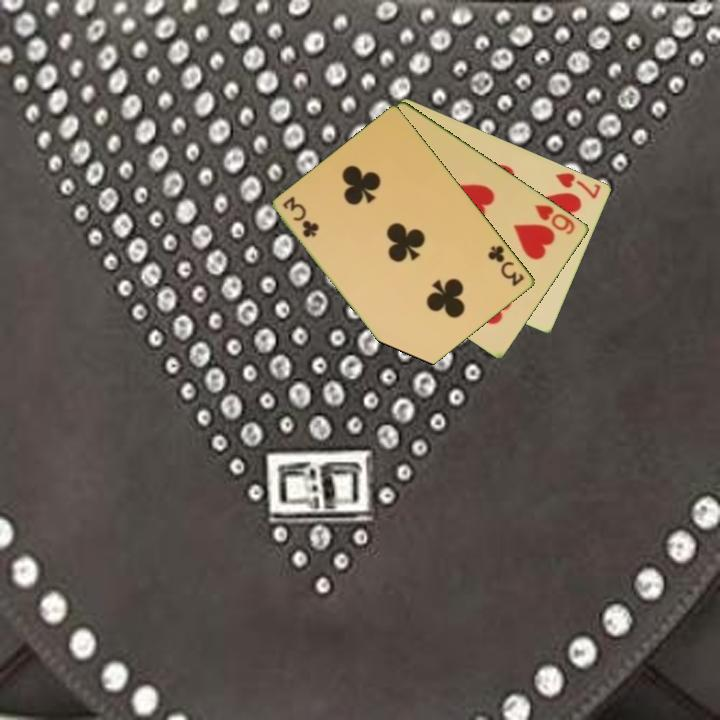3c: (484, 241, 528, 289), (279, 193, 321, 240)
6h: (531, 201, 578, 237)
7h: (552, 169, 604, 201)
